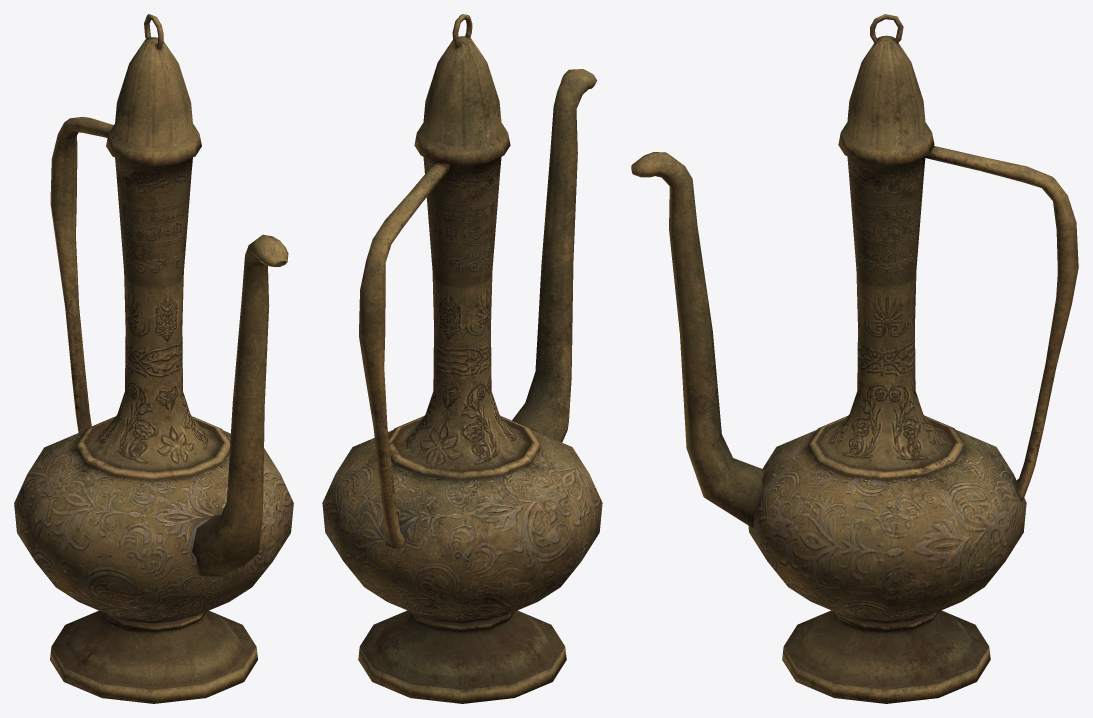
The model's file is golden_teapot.glb.
The picture shows the model from 3 angles, left to right: view 1: azimuth 30°, elevation 25°; view 2: azimuth 150°, elevation 25°; view 3: azimuth 270°, elevation 25°; orthographic projection.
Parts seen in each view (by area): view 1: Golden Teapot; view 2: Golden Teapot; view 3: Golden Teapot.
Boxes of the visible parts, box(x1,y1,x2,y2) form: Golden Teapot: box(14, 14, 293, 703); Golden Teapot: box(322, 14, 602, 703); Golden Teapot: box(631, 14, 1078, 703).
Size of the model in its own units: 2.98 by 7.58 by 4.76.
1 material, 1 textured.
